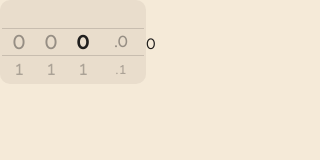
Scenario: DigitScrollPicker › offers halves or tenths when quarters are the wrong grain
Click the number field named "fraction of grams": [121, 42] box x1=114 y1=32 x2=128 y2=77
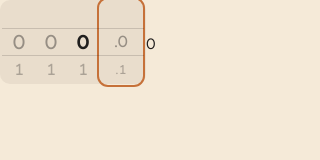
Type keys "3"
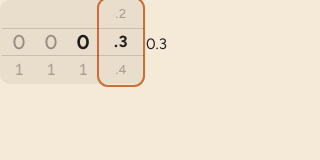
Result: the text with test id "value" reads "0.3" at x1=146 y1=35 x2=167 y2=53
